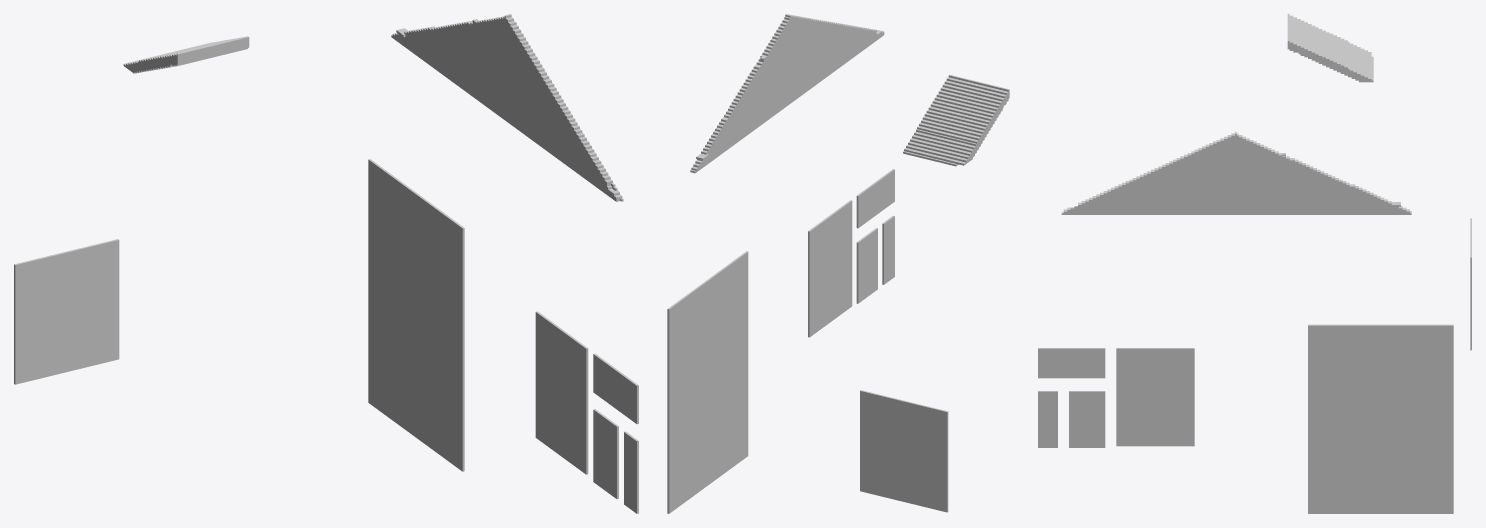
Rendered from Nha-14.obj.
The picture shows the model from 3 angles, left to right: view 1: azimuth 30°, elevation 25°; view 2: azimuth 150°, elevation 25°; view 3: azimuth 270°, elevation 25°; orthographic projection. The views are drawn at different scales.
Size of the model in its own units: 16.9 by 23.4 by 23.8.
Materials: 1 (1 with a texture image).
